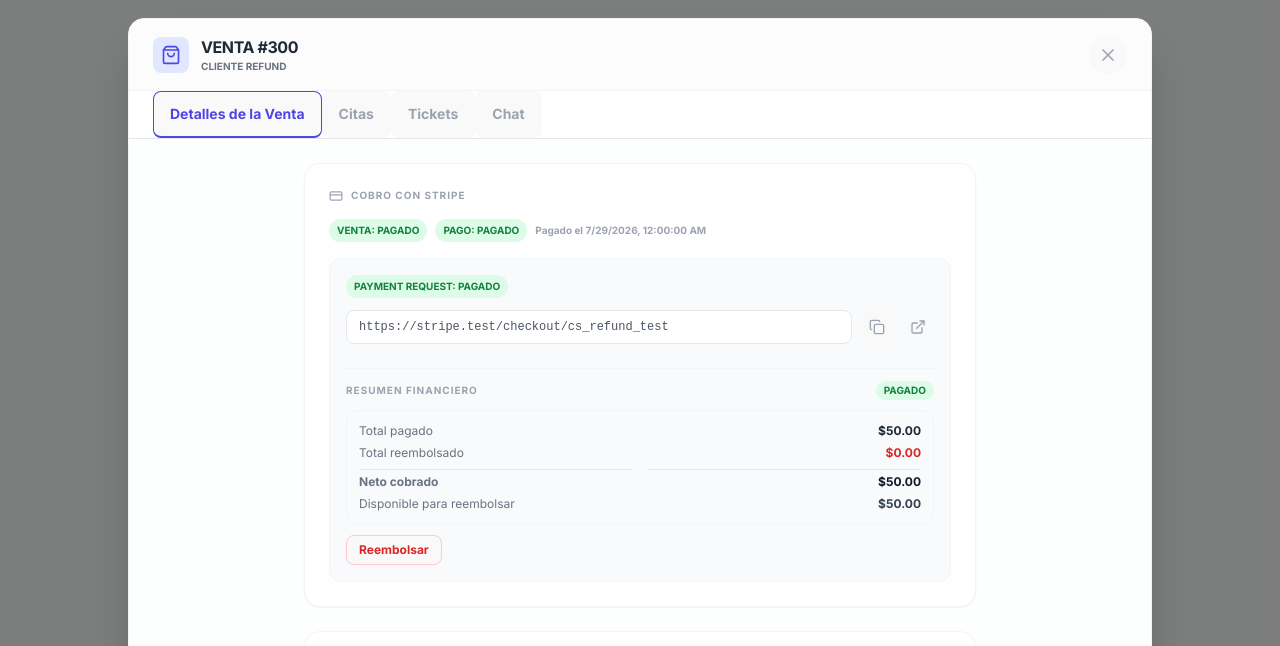
it: SaleModal — visible partial and full refund flow › submits a full refund and reflects the resulting refunded status
Click the button "Reembolsar" at [394, 550], box x1=346 y1=535 x2=442 y2=565
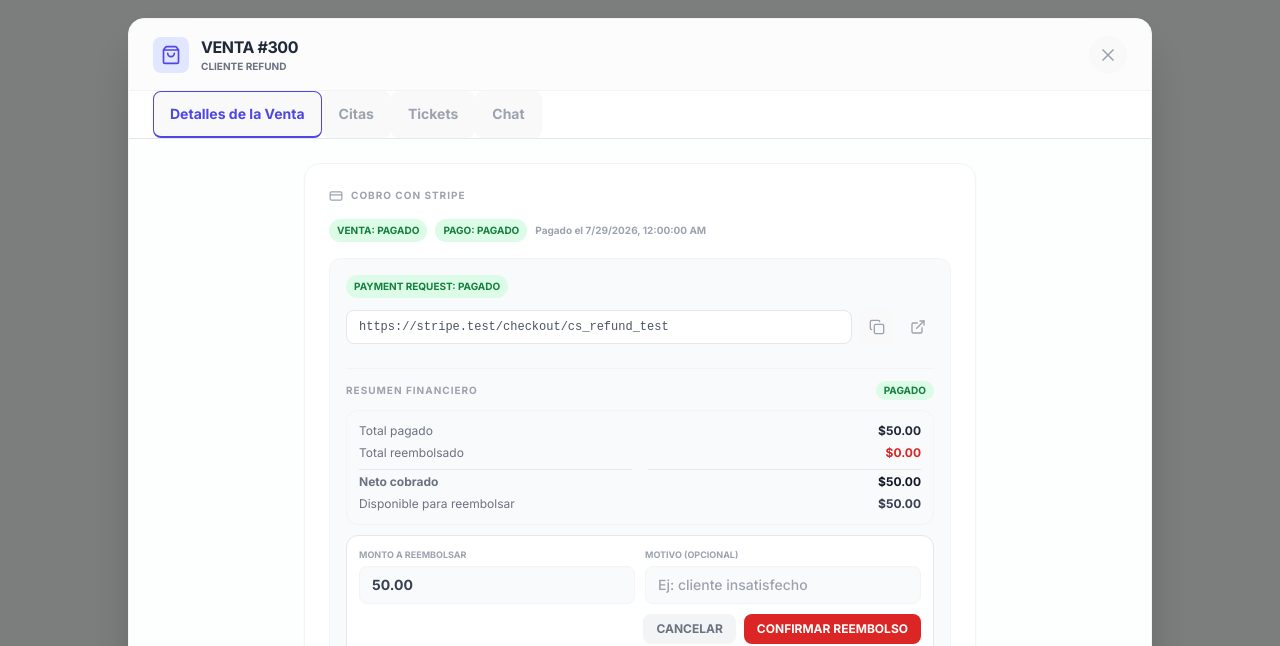
Note: Default amount pre-filled from refundableAmount ($50) — a full refund needs no edits.
Click the button "Confirmar Reembolso" at [832, 628], box x1=744 y1=614 x2=921 y2=644
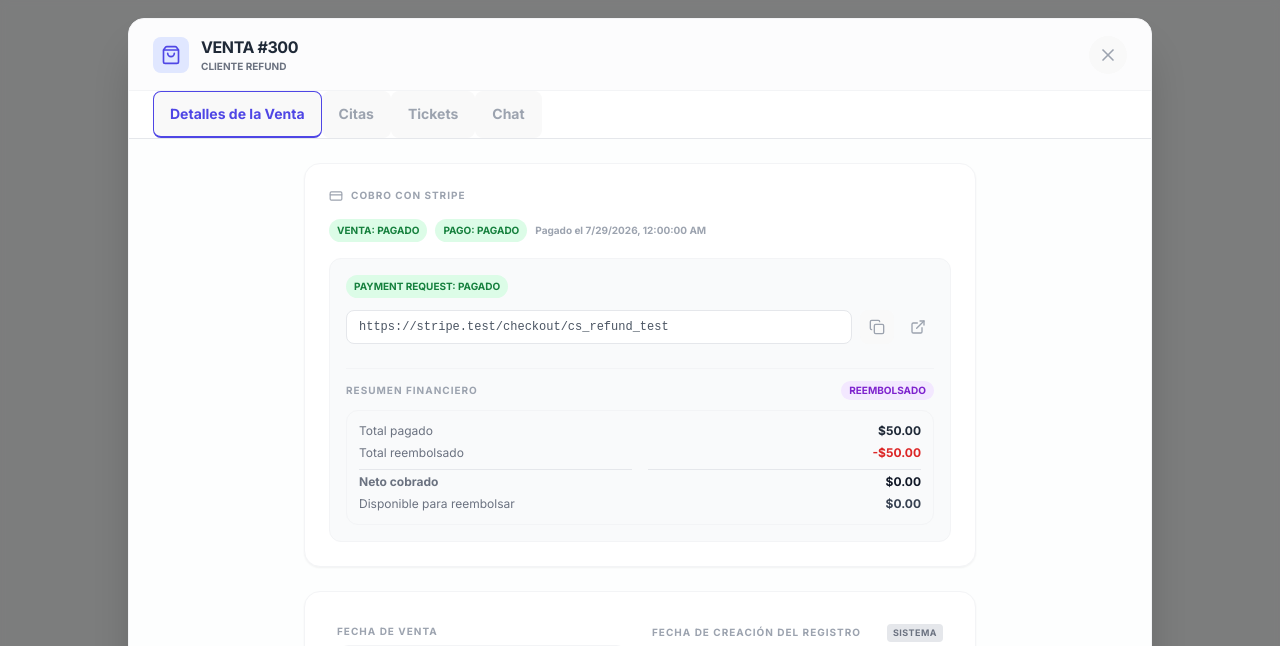
Result: the text "Reembolsado" is shown at x1=841 y1=381 x2=934 y2=400
